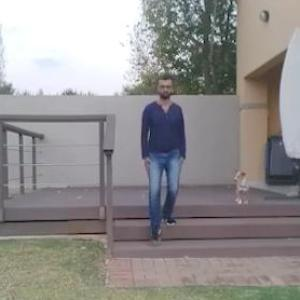follow: (138, 72, 180, 240)
